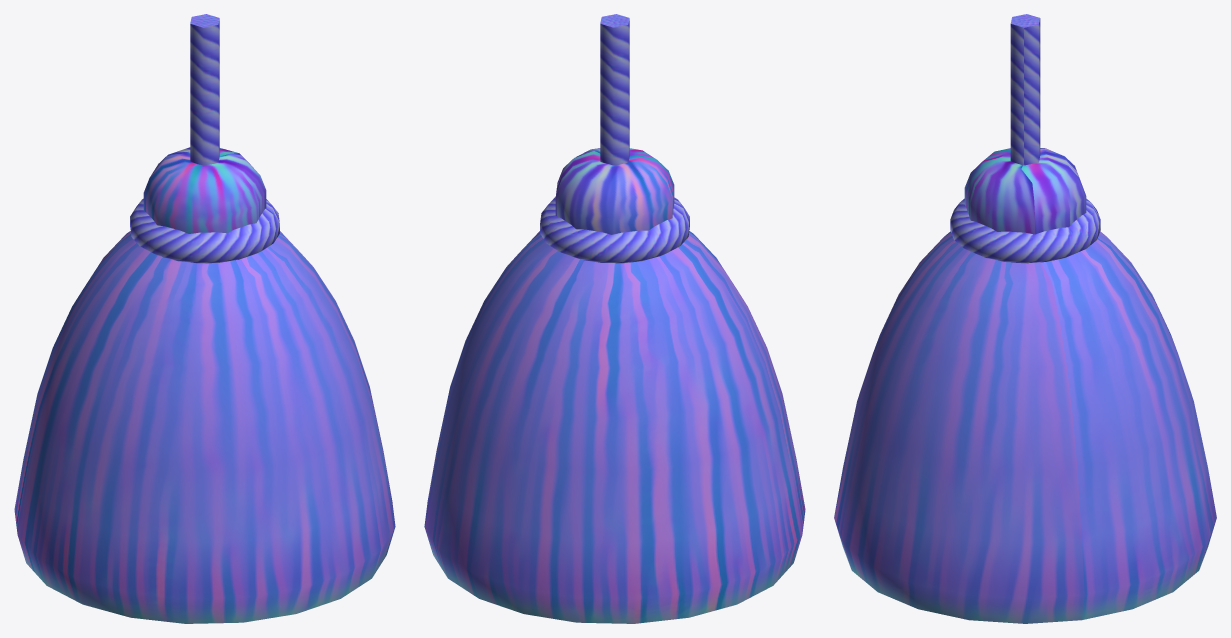
The model's file is SM_EastLands_Tassel_02.fbx.
3 views of the same model, side by side, from view 1: azimuth 30°, elevation 25°; view 2: azimuth 150°, elevation 25°; view 3: azimuth 270°, elevation 25° (orthographic).
Visible parts, largest first — view 1: SM_EastLands_Tassel_02_LOD0; view 2: SM_EastLands_Tassel_02_LOD0; view 3: SM_EastLands_Tassel_02_LOD0.
Part boxes in pixels (x1,y1,x2,y2): SM_EastLands_Tassel_02_LOD0: (14, 14, 395, 623); SM_EastLands_Tassel_02_LOD0: (424, 14, 805, 623); SM_EastLands_Tassel_02_LOD0: (834, 14, 1216, 623).
Bounding box in the file's own units: 52.62 × 82.4 × 52.62.
